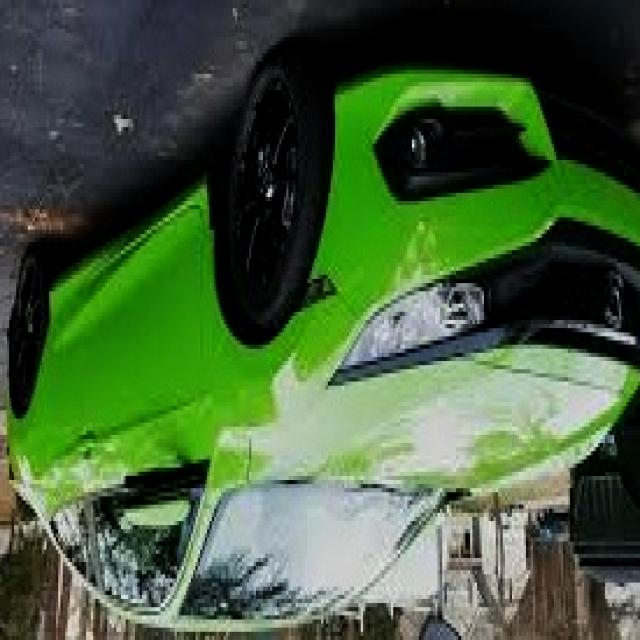green: (6, 47, 640, 628)
